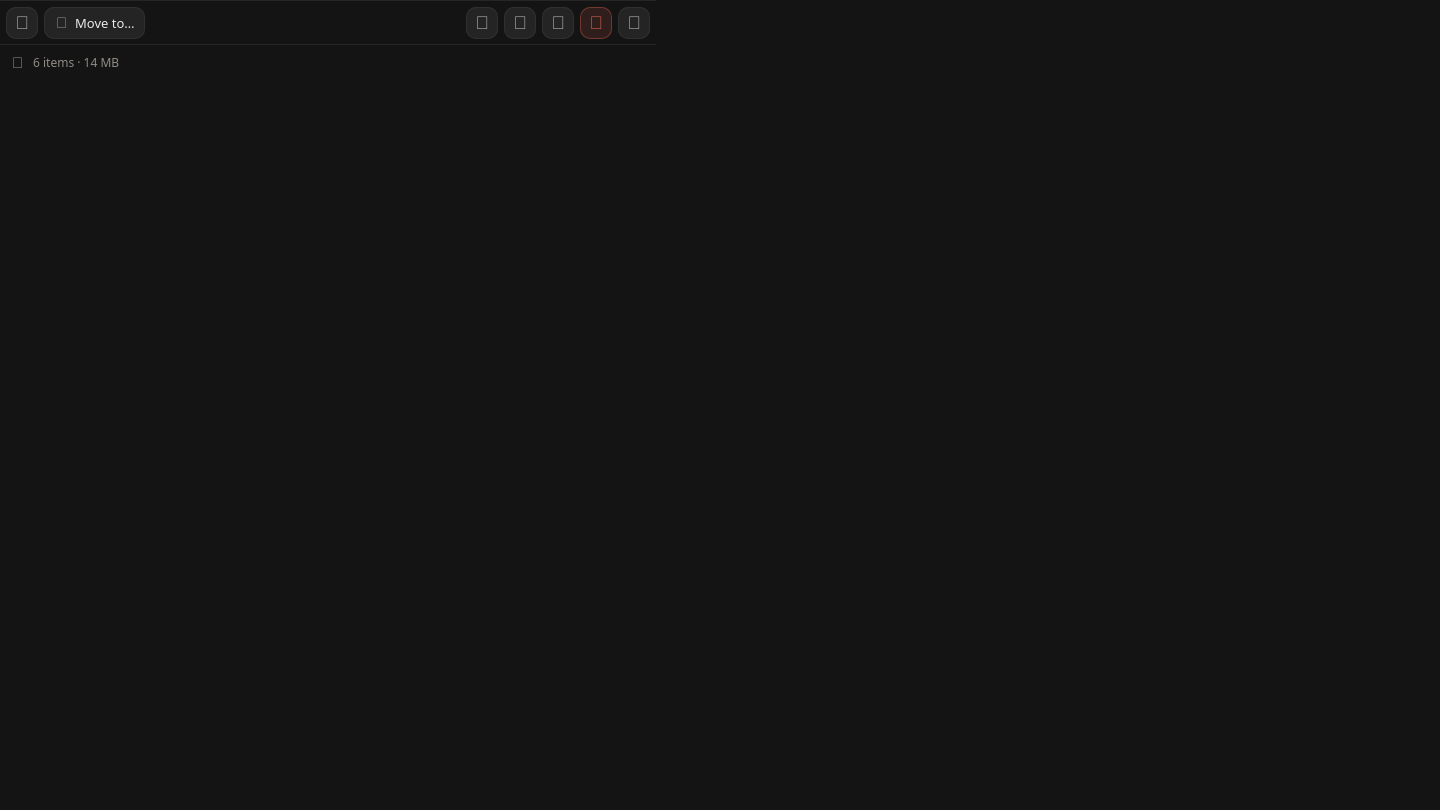
Scenario: the tree's rows carry navigation's pill, and a recent row names its parent instead
This screenshot has width=1440, height=810.
Step 1. Click the button " Move to…" → [94, 22], box [44,6,145,38]
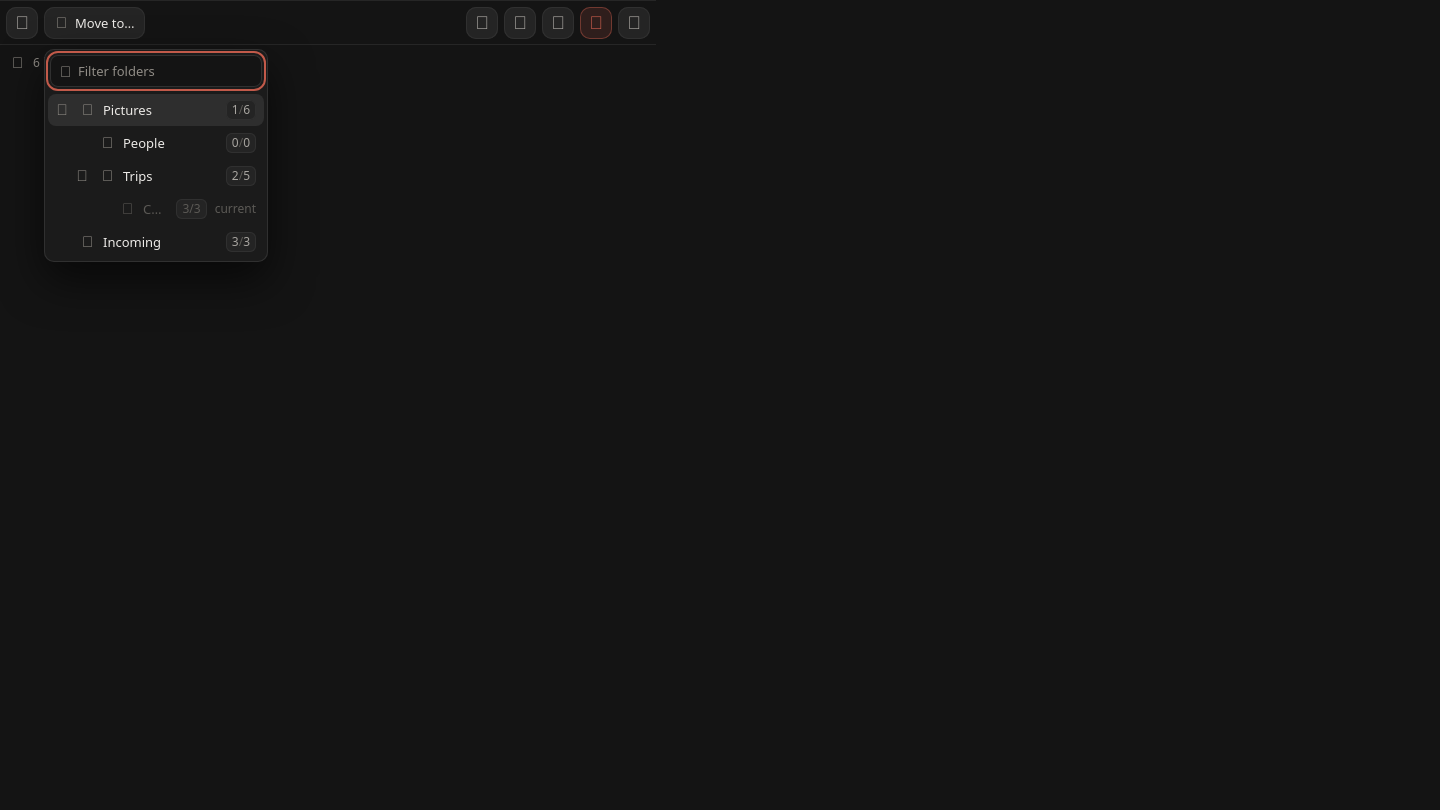
expect the option " People 0/0" is shown: met
Step 2. Click the option " People 0/0" → [144, 142], box [102,132,256,152]
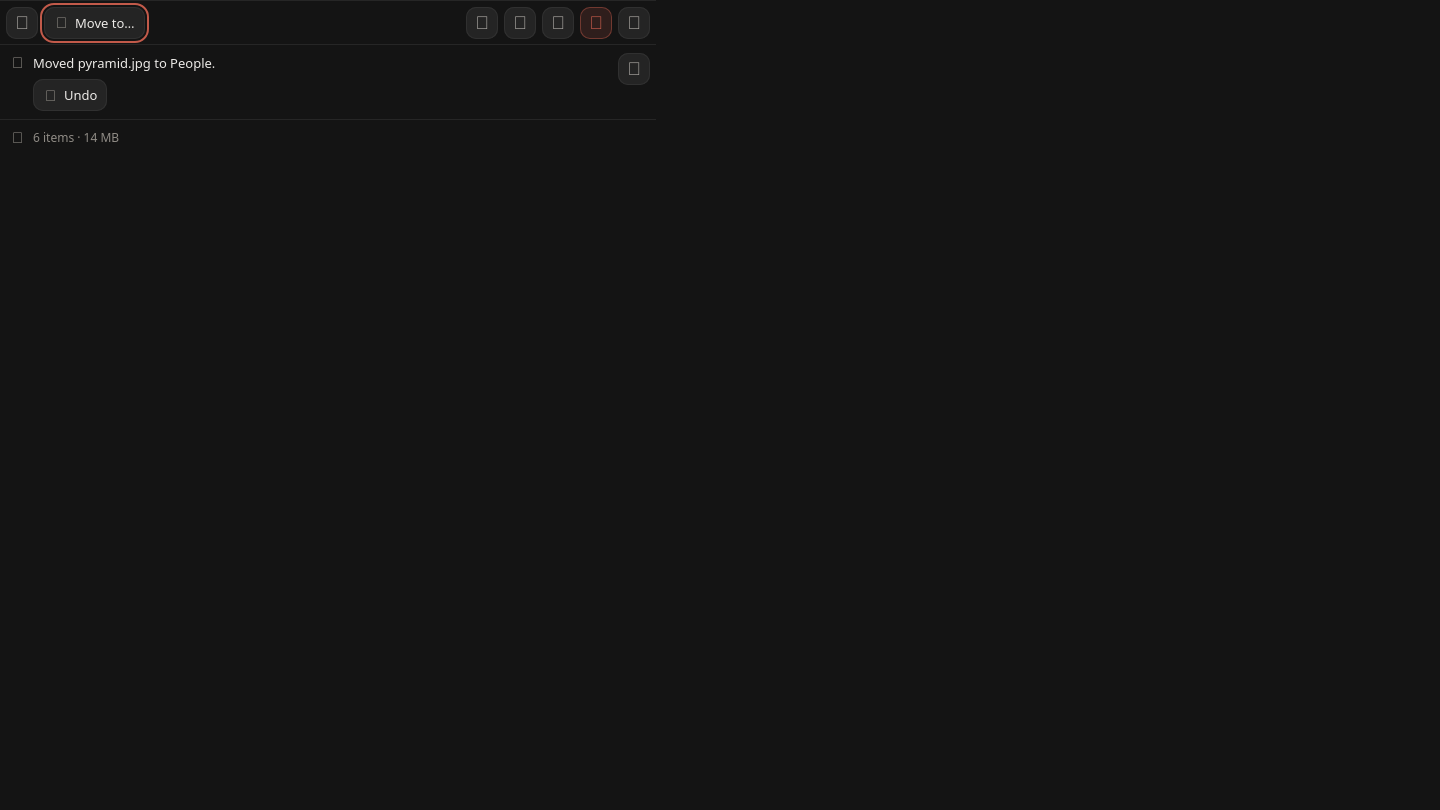
Step 3. Click the button " Move to…" → [94, 22], box [44,6,145,38]
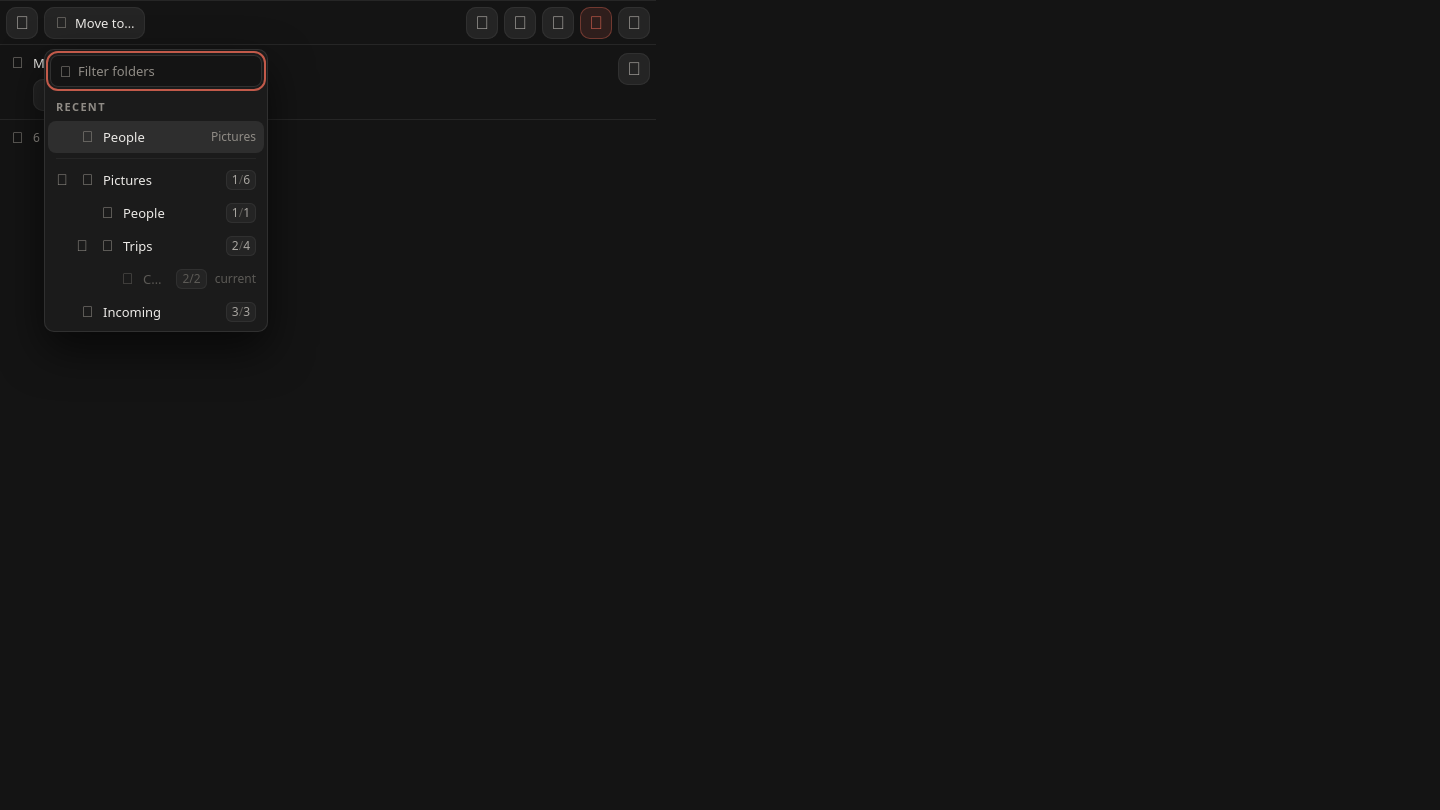
expect the text "Recent" is shown: met, box [56,98,106,114]
